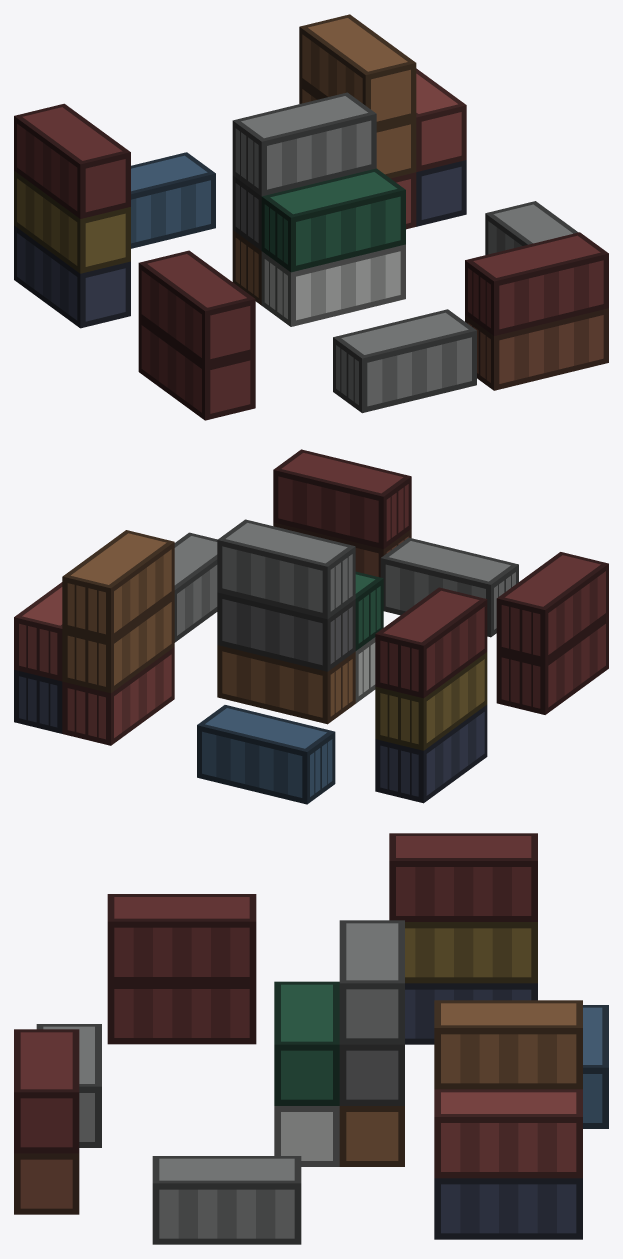
The model's file is foliage-scattered.glb.
3 views of the same model, one above another, from view 1: azimuth 30°, elevation 25°; view 2: azimuth 150°, elevation 25°; view 3: azimuth 270°, elevation 25° (orthographic). The views are drawn at different scales.
Visible parts, largest first — view 1: foliage-scattered; view 2: foliage-scattered; view 3: foliage-scattered.
Part boxes in pixels (bbox=[...]): foliage-scattered: bbox=[14, 14, 608, 420]; foliage-scattered: bbox=[14, 449, 608, 804]; foliage-scattered: bbox=[14, 833, 608, 1244].
Bounding box in the file's own units: 47.9 × 18 × 52.8.
